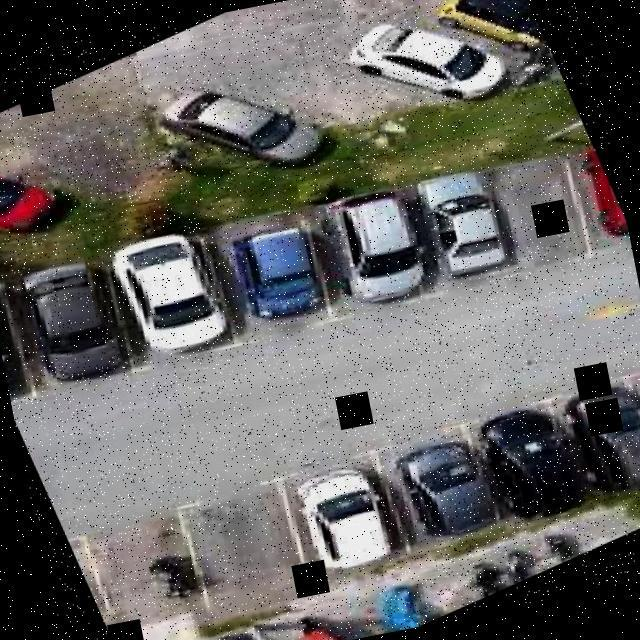space-empty: (137, 449, 345, 640), (60, 476, 259, 640), (449, 128, 620, 298), (51, 485, 159, 640)
space-occupied: (73, 202, 260, 396), (280, 156, 466, 348), (0, 219, 171, 422), (174, 186, 348, 364), (356, 397, 526, 573), (263, 436, 424, 610), (452, 374, 614, 546), (377, 143, 539, 314), (538, 356, 640, 523)
